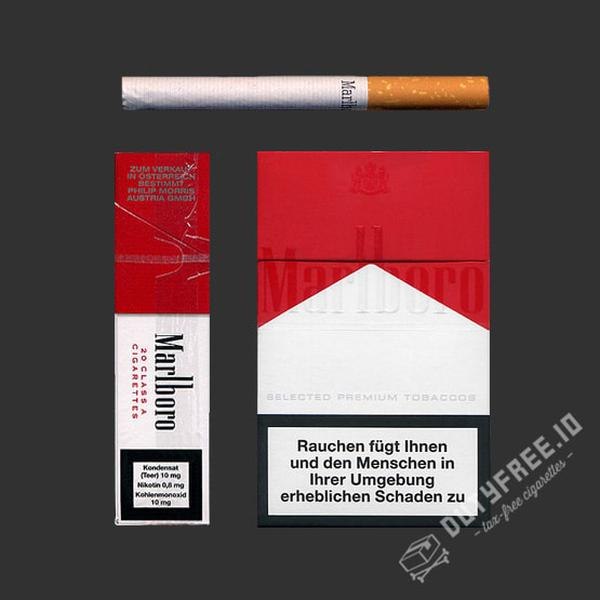marlboro_red: (257, 152, 490, 524)
